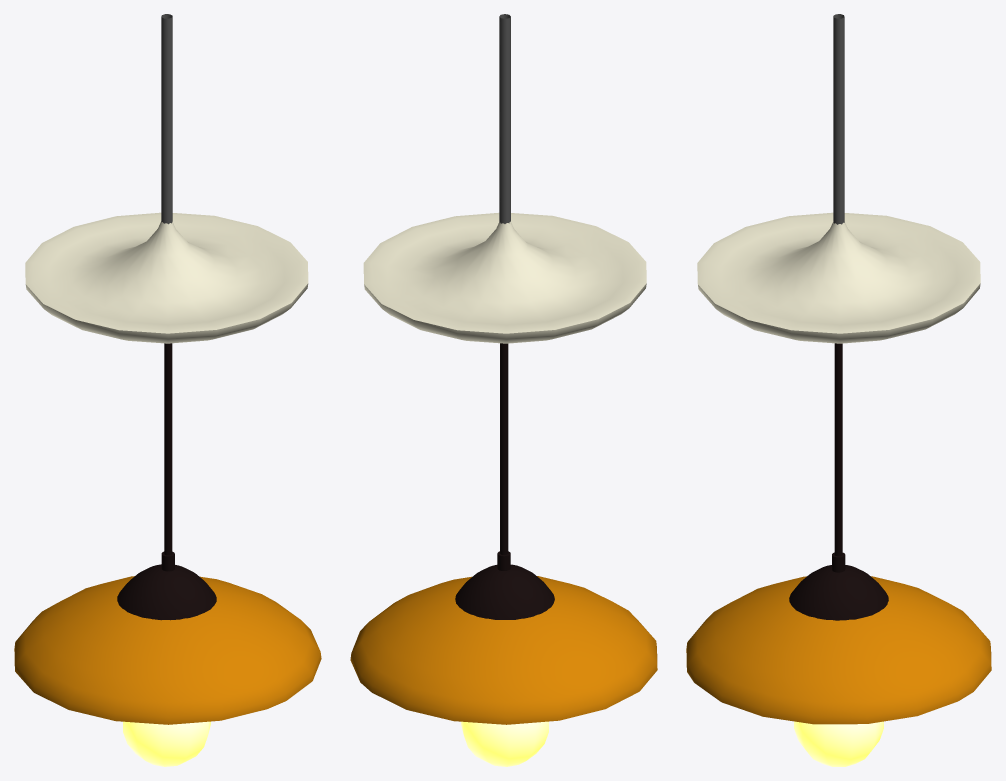
Rendered from SmallLamp.fbx.
3 renders of one model, left to right at view 1: azimuth 30°, elevation 25°; view 2: azimuth 150°, elevation 25°; view 3: azimuth 270°, elevation 25°, orthographic.
Parts seen in each view (by area): view 1: Top, Plate, Cap, Bulb, Wire, WireMain; view 2: Top, Plate, Cap, Bulb, Wire, WireMain; view 3: Top, Plate, Cap, Bulb, Wire, WireMain.
Part boxes in pixels (x1,y1,x2,y2): Top: (14, 576, 321, 724); Plate: (25, 212, 308, 343); Cap: (117, 564, 216, 620); Bulb: (123, 721, 210, 766); Wire: (161, 14, 172, 224); WireMain: (161, 343, 174, 571); Top: (350, 576, 657, 724); Plate: (363, 212, 646, 343); Cap: (455, 564, 554, 619); Bulb: (461, 721, 548, 766); Wire: (499, 14, 510, 223); WireMain: (497, 343, 510, 570); Top: (686, 576, 991, 724); Plate: (697, 212, 980, 343); Cap: (789, 565, 888, 620); Bulb: (794, 721, 883, 766); Wire: (833, 14, 844, 224); WireMain: (832, 343, 845, 572).
Bounding box in the file's own units: 1.73 × 4.63 × 1.72.
